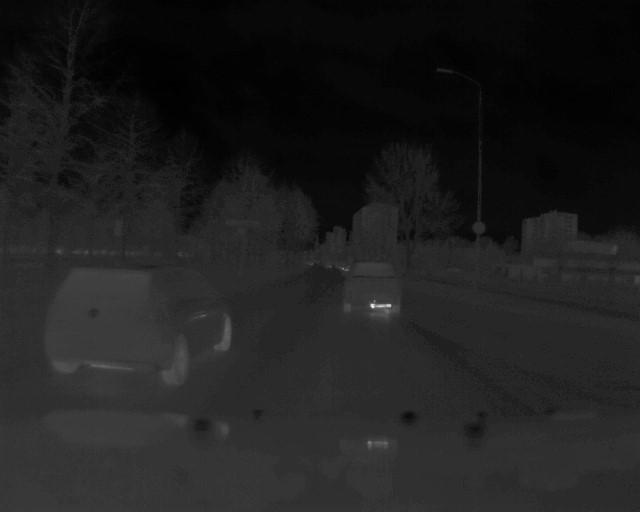car: (43, 260, 238, 383), (338, 256, 409, 318)
